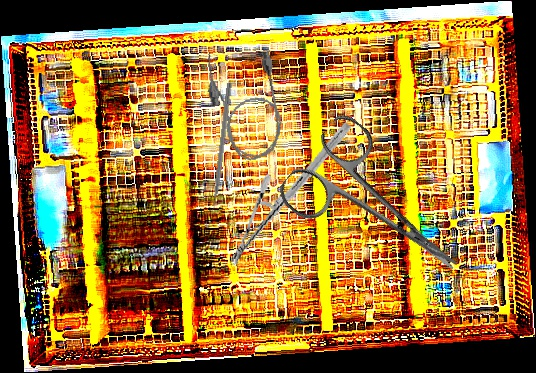Cannula: (201, 42, 290, 166)
Chopper: (203, 81, 233, 217)
Iris Scissors: (273, 109, 487, 313)
Needle Holder: (229, 105, 352, 282)
